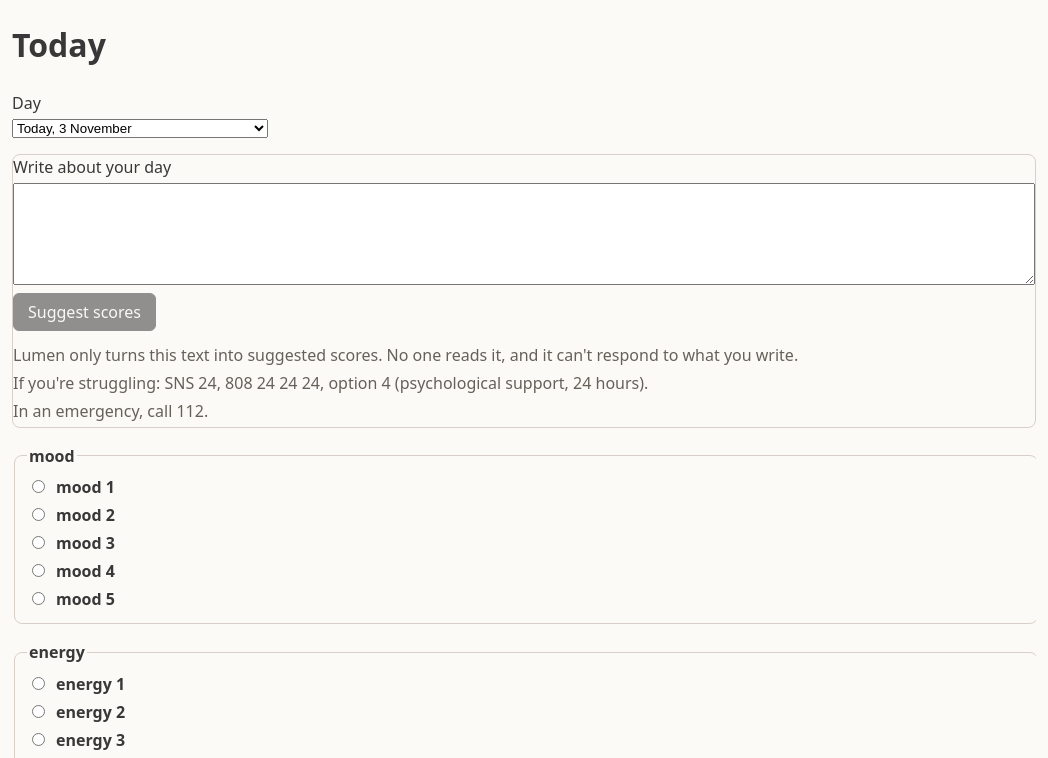
Test: free text › doesn't carry the note to another day
Step 1. Type "marker_note slept badly, stressful meeting" into the text box labelled "Write about your day" → [524, 234], box [13,183,1035,285]
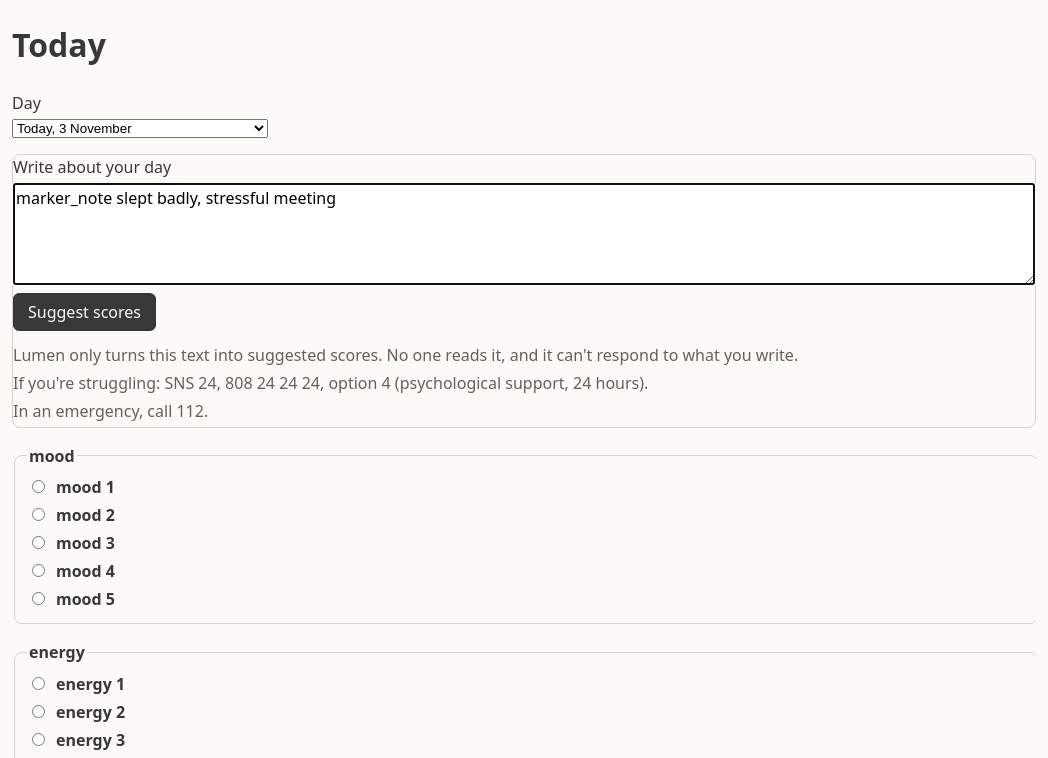
Step 2. Select "2 November" in the dropdown labelled "Day" → [140, 128], box [12,119,268,138]
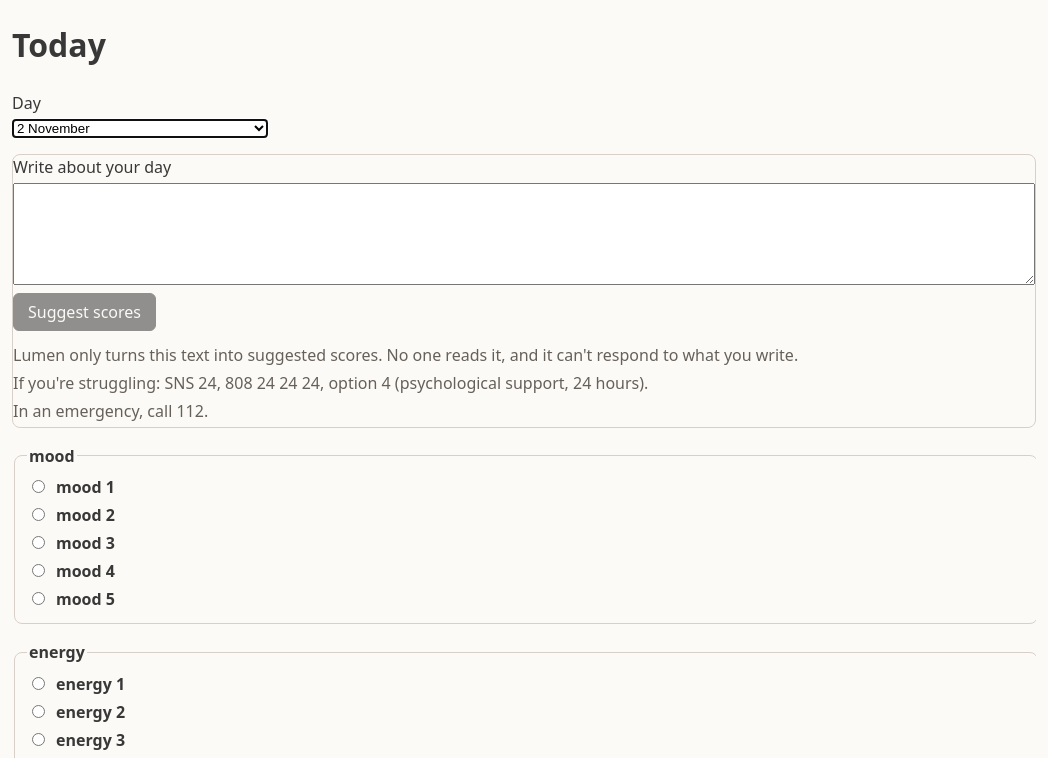
expect the text box labelled "Write about your day" is empty: met, box [13,183,1035,285]
